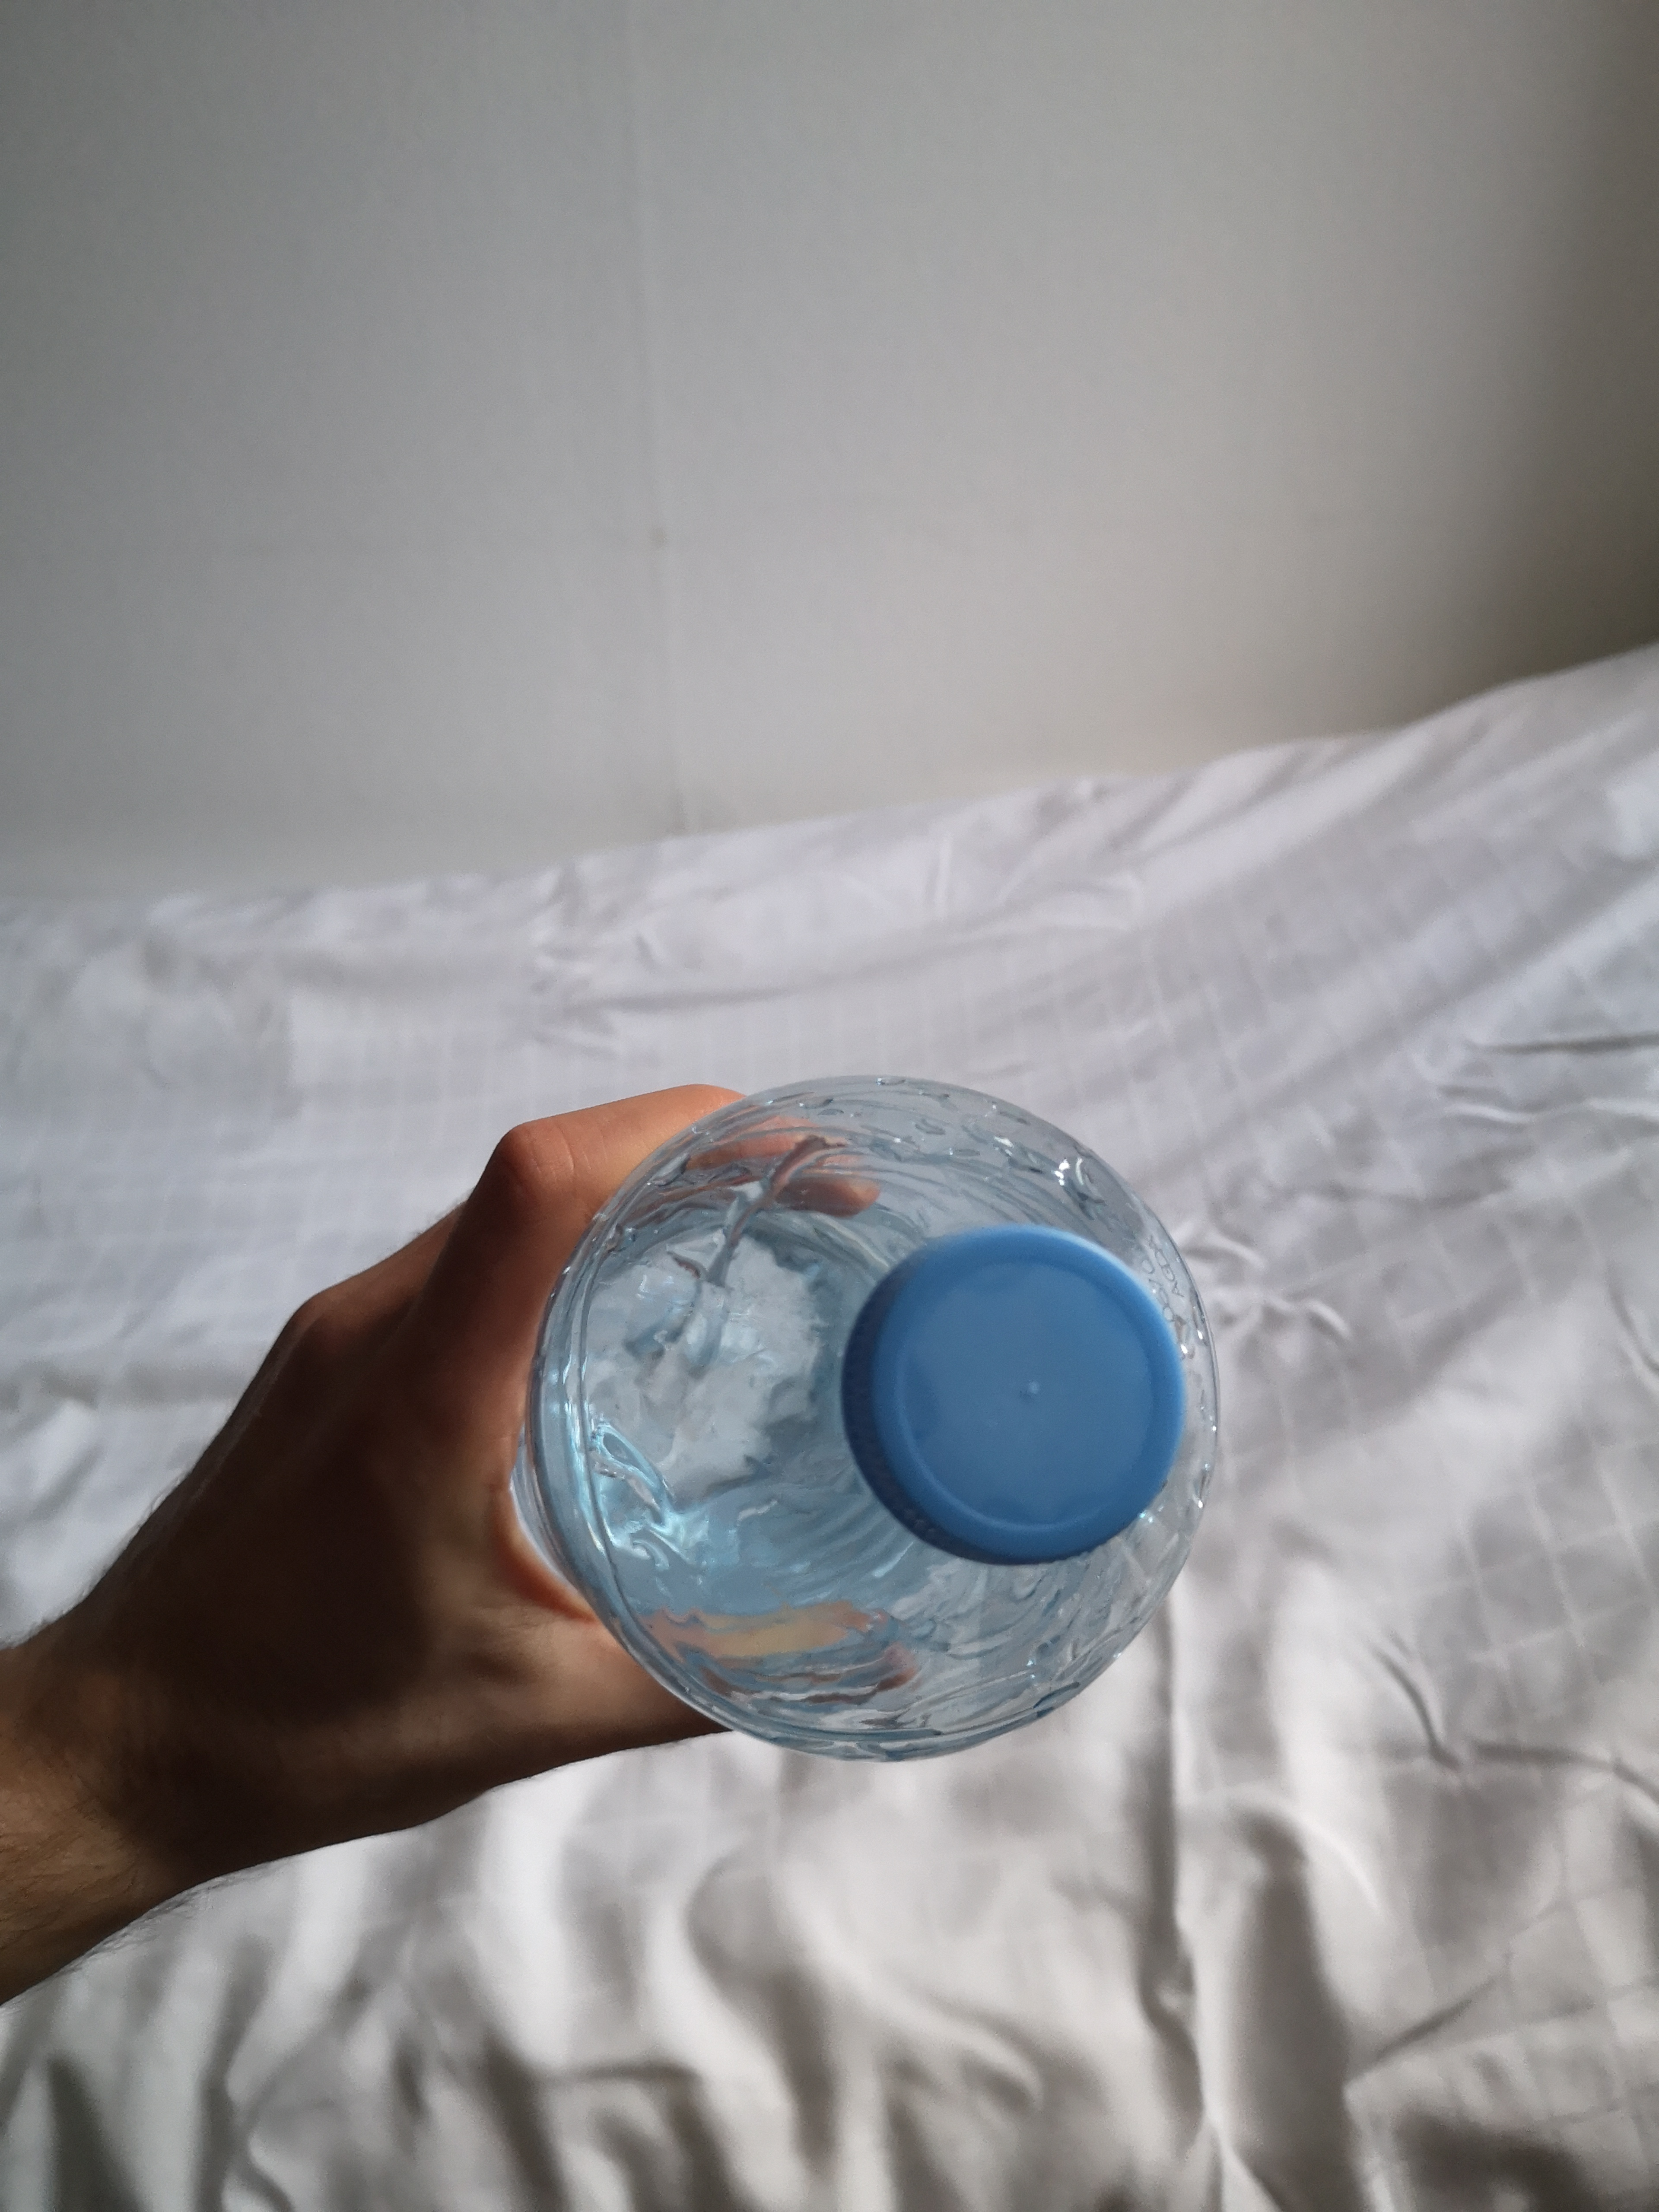plastic_bottle: (518, 1047, 1263, 1768)
